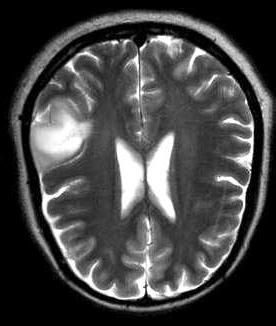Normal_Brain: (5, 16, 276, 326)
